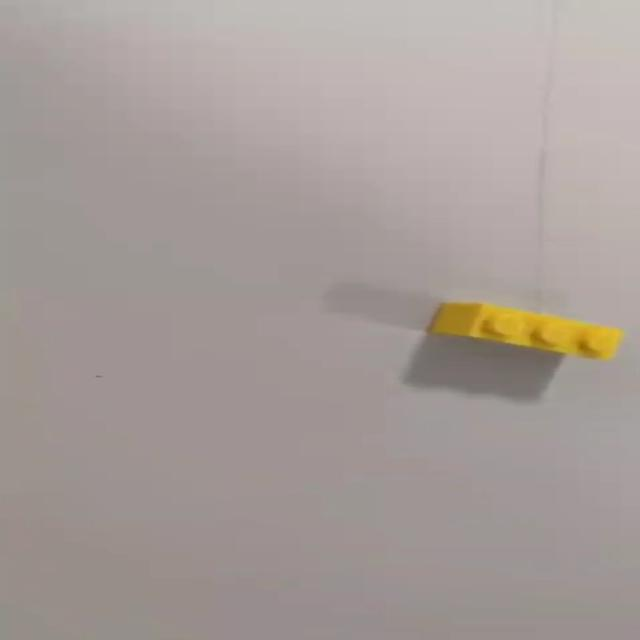C3x1x1: (431, 299, 628, 368)
